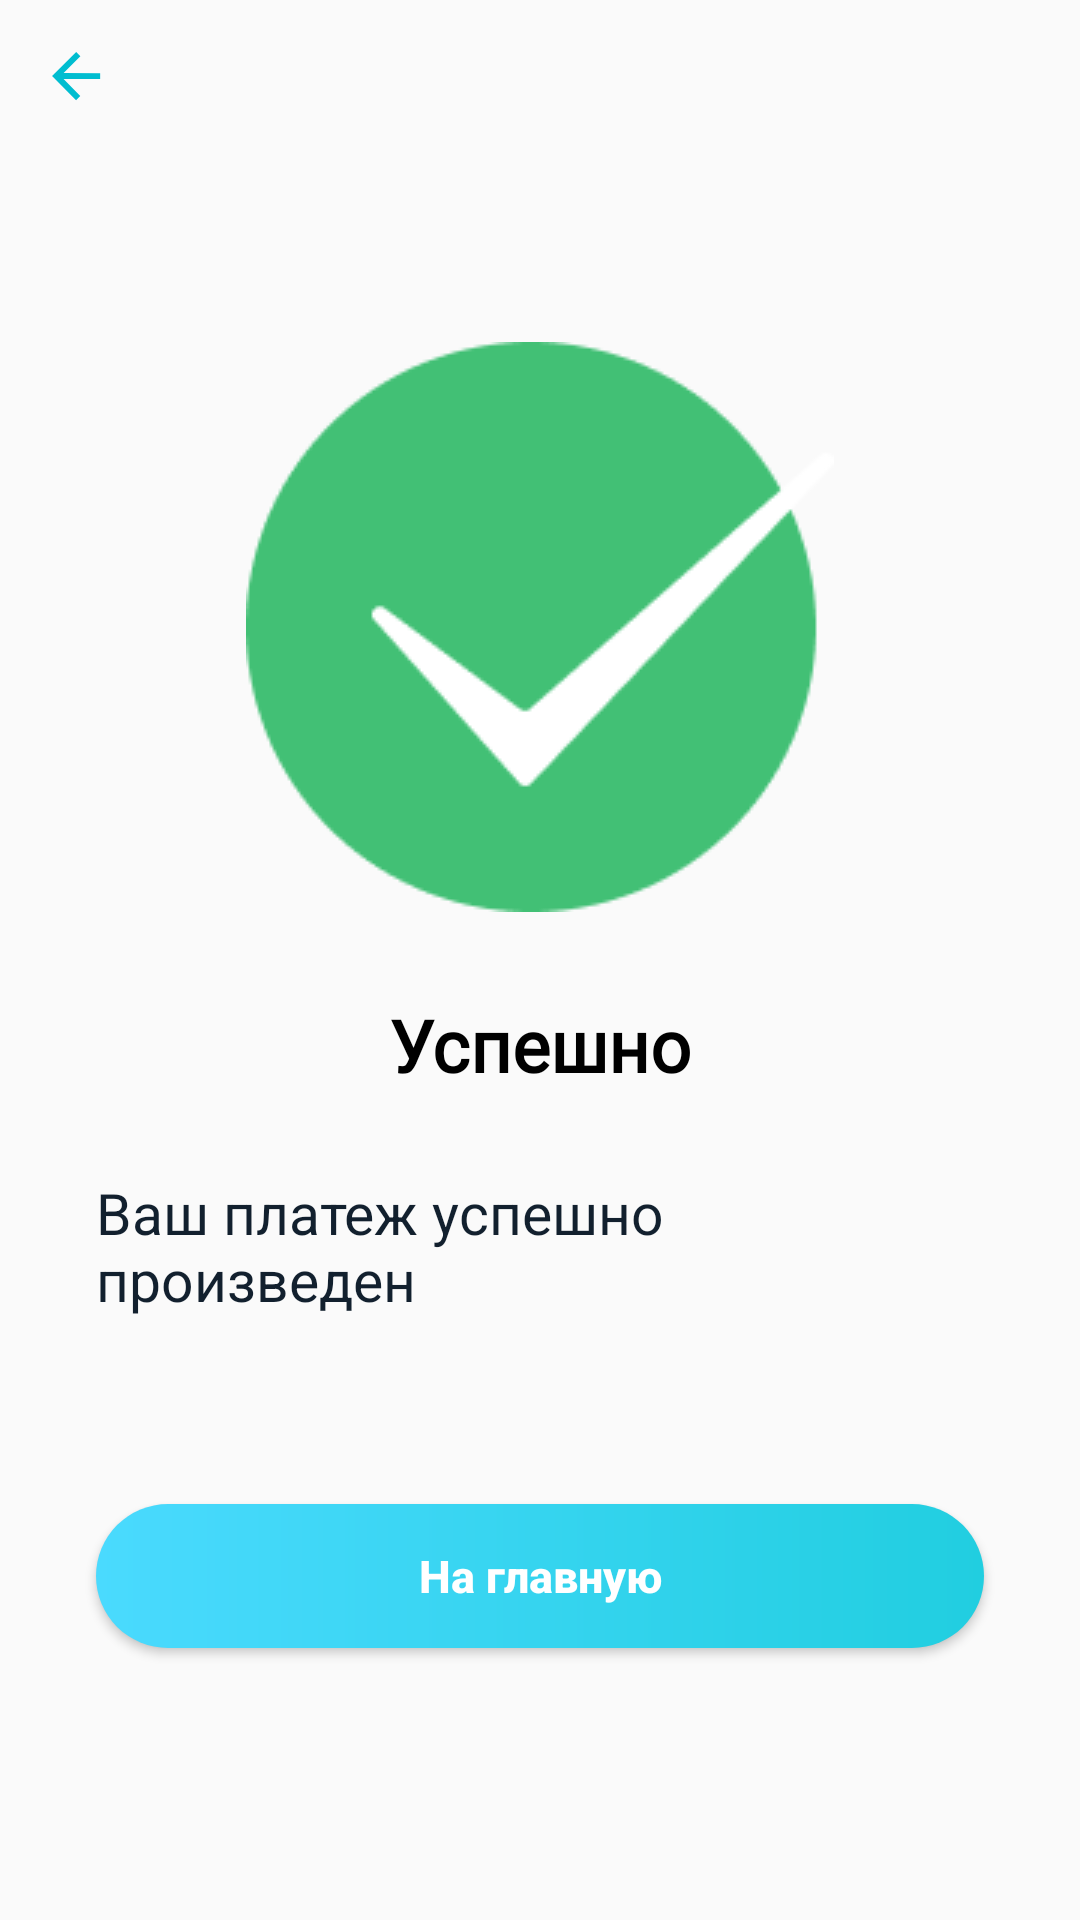

Screen size 1080x1920. Icon name, then its box in pixels as (x1, y1, x2, y2):
arrow back: (52, 52, 101, 100)
